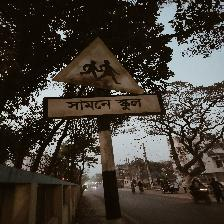School-in-front: (46, 36, 161, 122)
